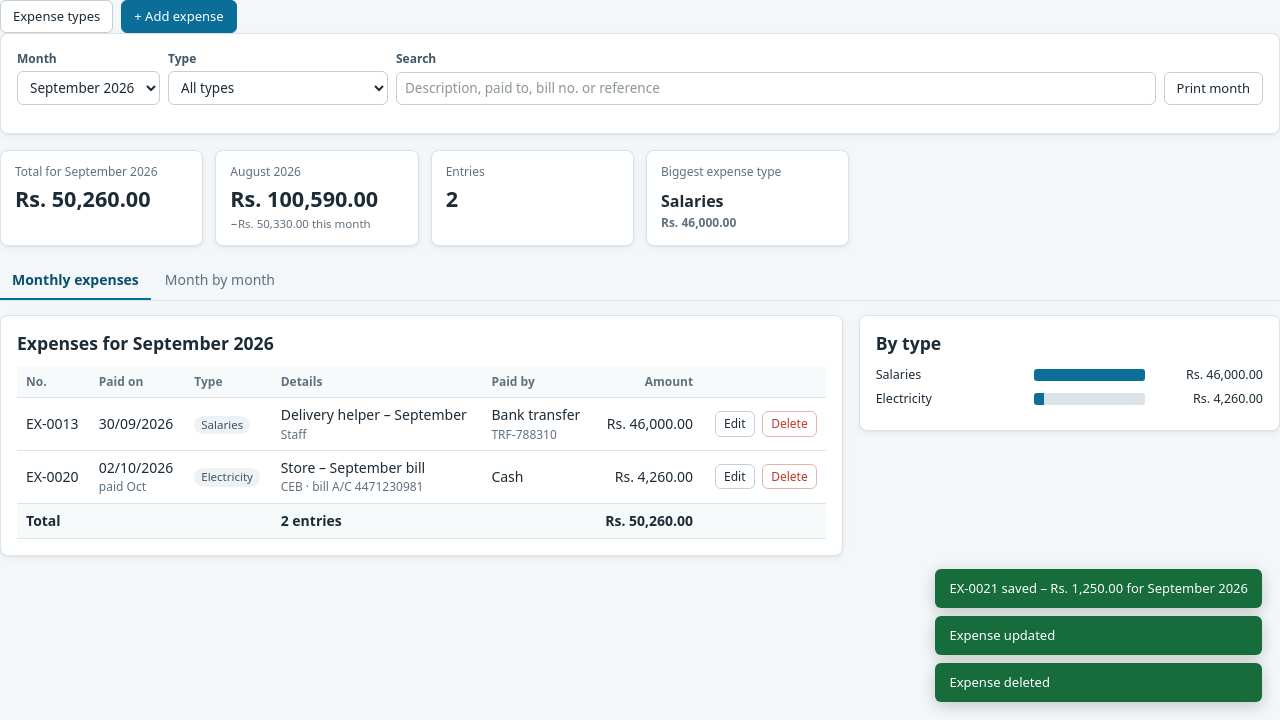
Test: Expenses › manages the expense types
Check: the text "Store – September bill" is shown, box [281,458,425,477]
Click the button "Expense types".
click(57, 16)  # box [0,0,113,33]
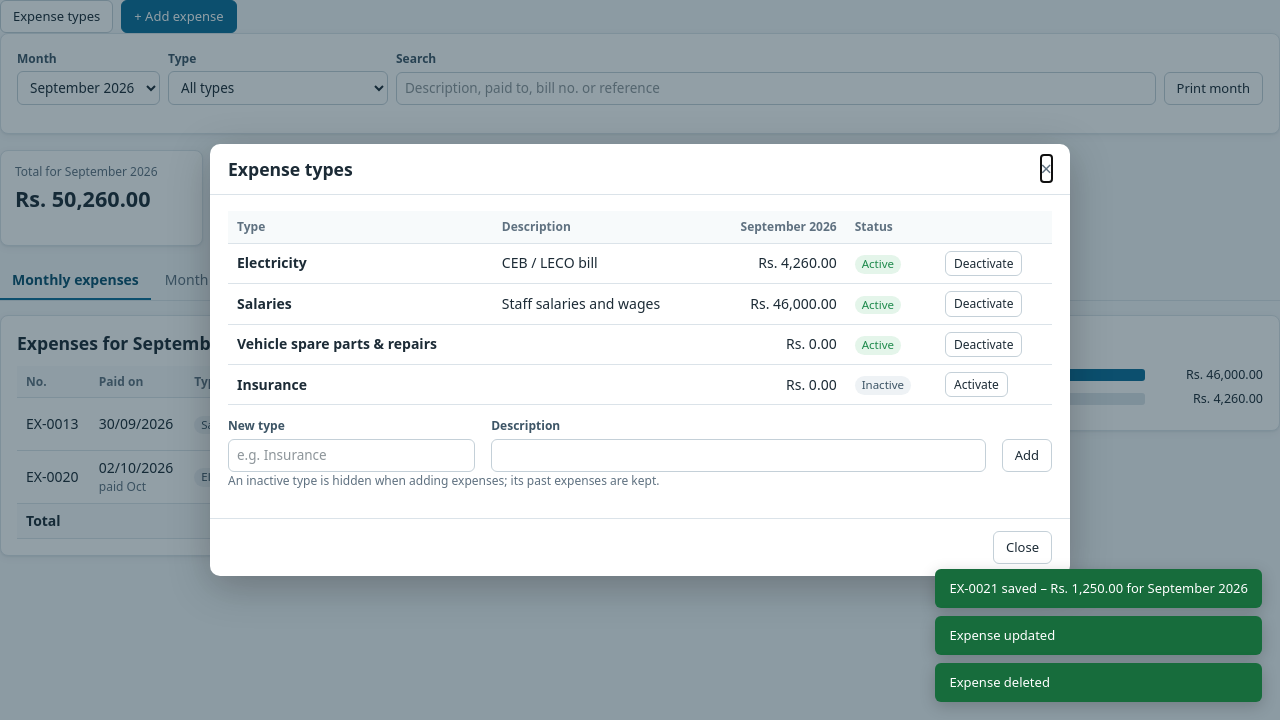
Check: the text "Electricity" shows "Rs. 4,260.00", box [758,253,837,272]
Check: the text "Electricity" shows "Active", box [862,256,894,271]
Click the button with aria-label "Activate Insurance".
click(976, 385)  # box [945,372,1008,397]
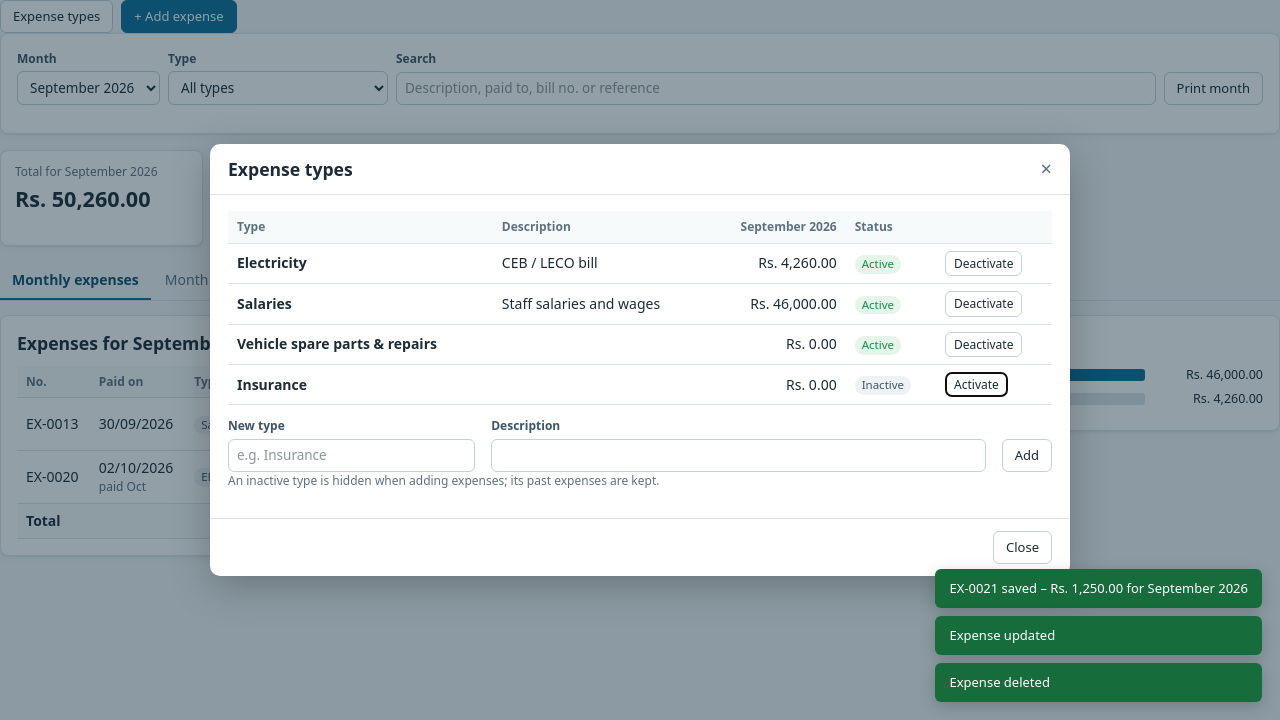
Type "Security" into the field labelled "New type".
click(352, 456); type("Security")  # box [228,439,475,472]
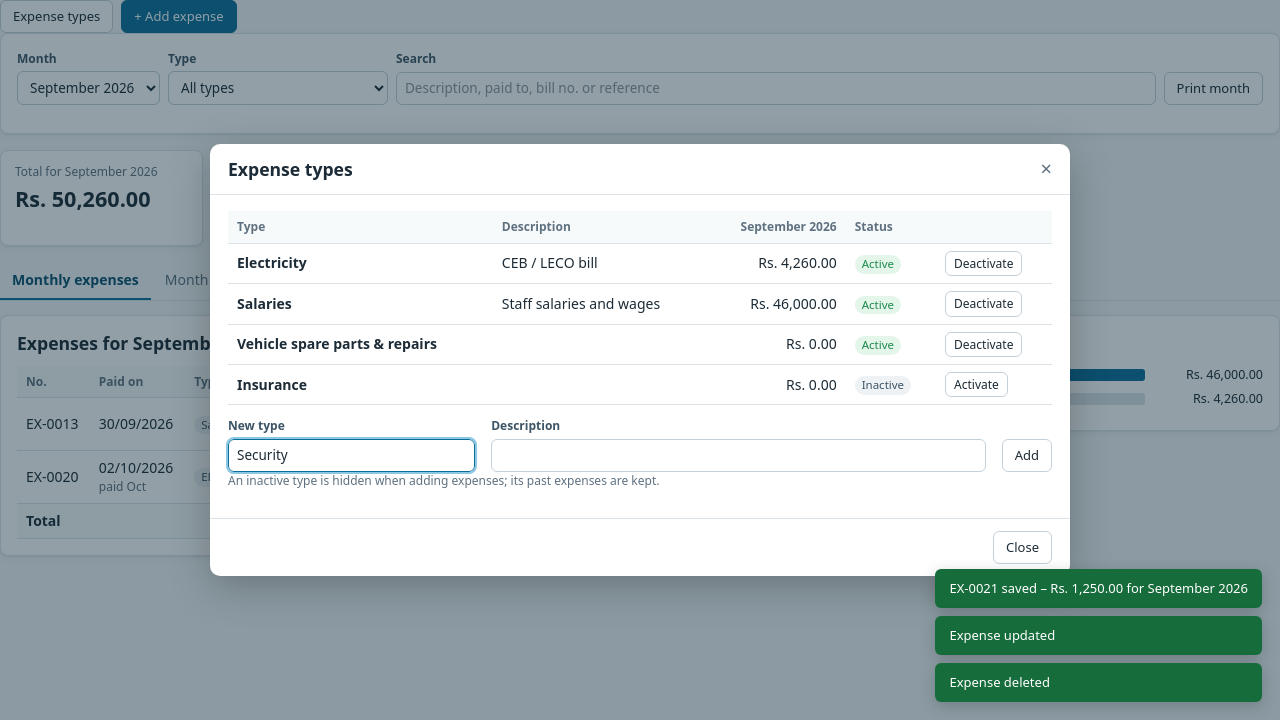
Click the button "Add".
click(1027, 456)  # box [1002,440,1052,472]
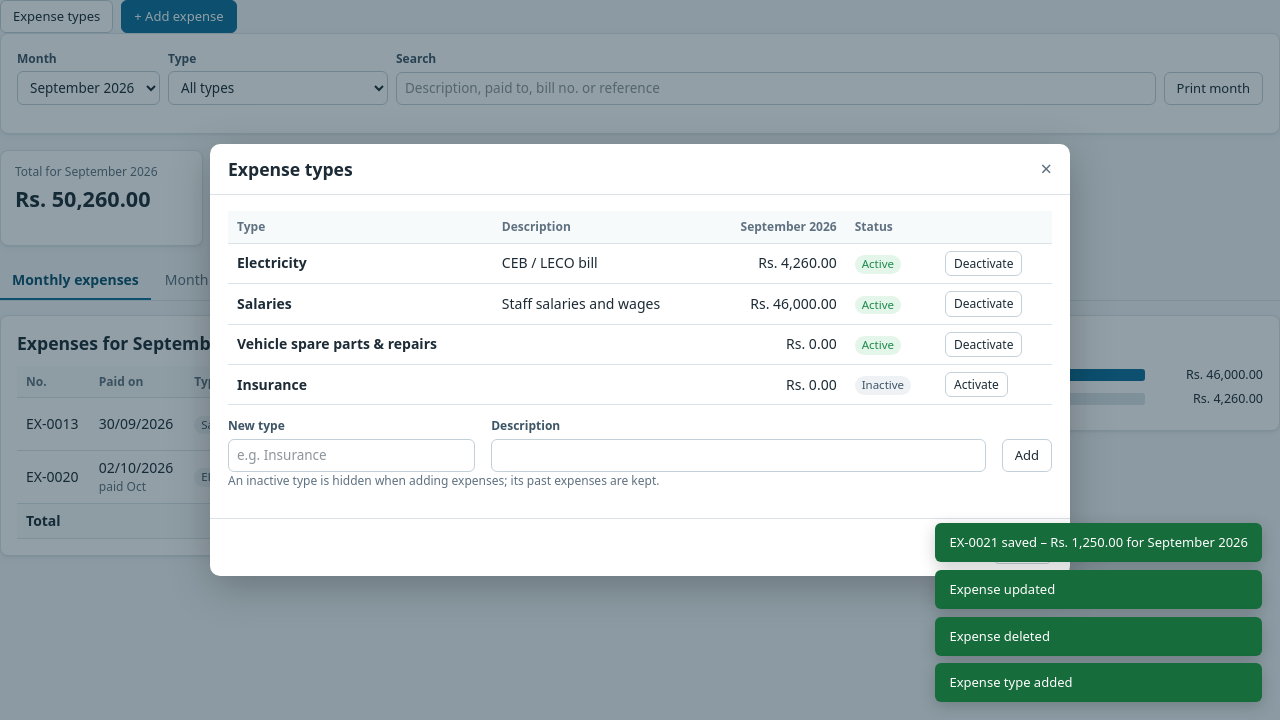
Check: the text "Expense type added" is shown, box [935,663,1262,702]
